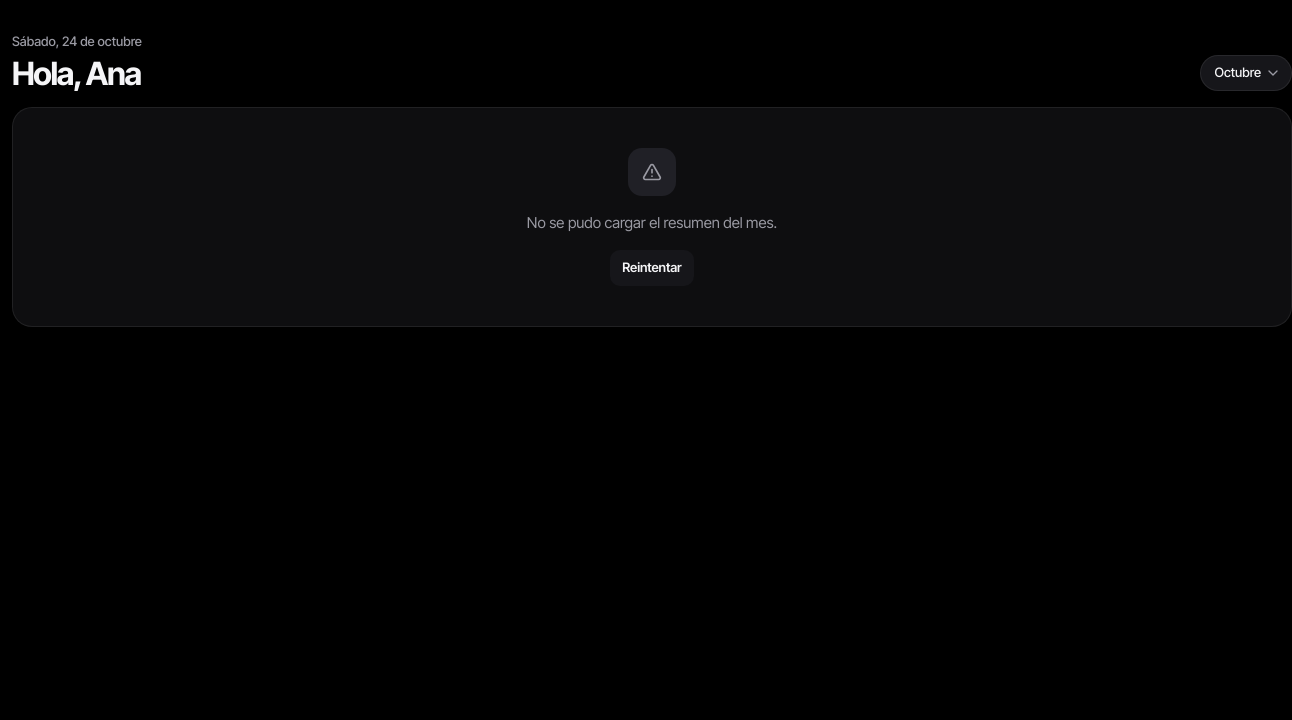
Test: Dashboard › shows an error with a retry instead of loading forever
This screenshot has width=1292, height=720.
Check: the text "No se pudo cargar el resumen del mes." is shown, box [527,212,777,234]
Click the button "Reintentar". click: (652, 268)
box: [610,250,694,286]
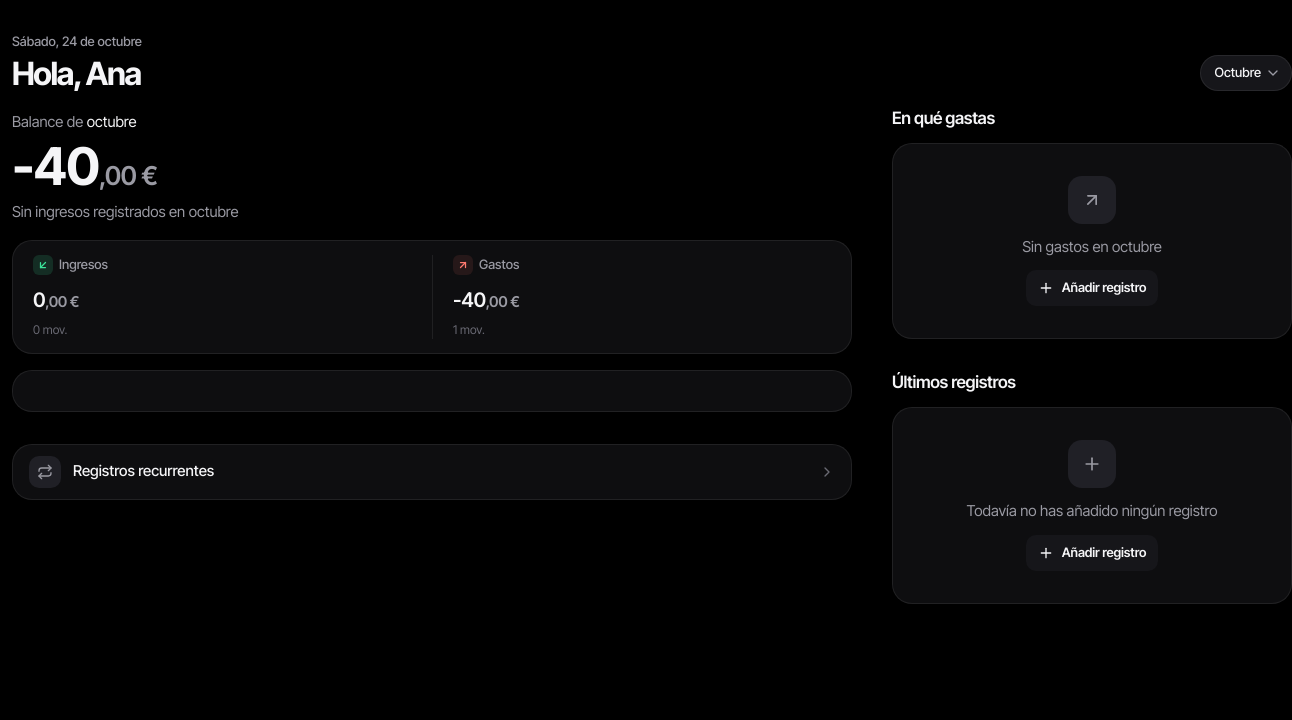
Check: the text "Sin ingresos registrados en octubre" is shown, box [12,202,238,221]
